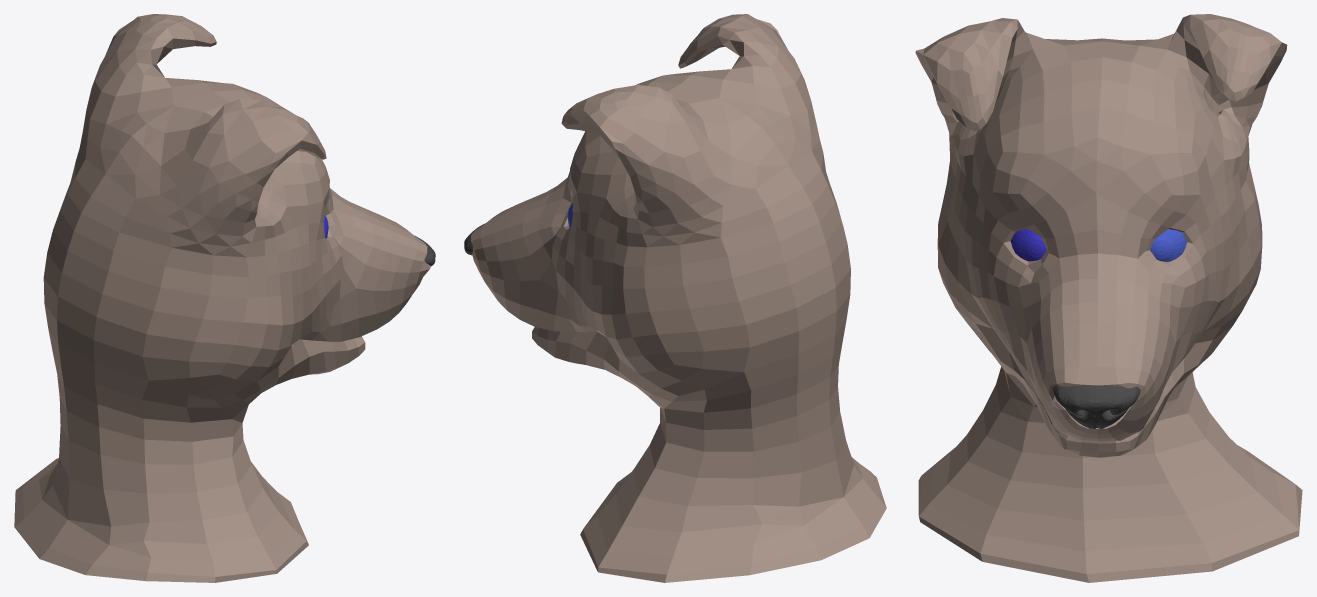
File: husky.dae
The picture shows the model from 3 angles, left to right: view 1: azimuth 30°, elevation 25°; view 2: azimuth 150°, elevation 25°; view 3: azimuth 270°, elevation 25°; orthographic projection. The views are drawn at different scales.
Visible parts, largest first — view 1: head; view 2: head; view 3: head, nose, Sphere, Sphere_001.
Part boxes in pixels (x1,y1,x2,y2): head: (14,14,430,582); head: (471,14,886,582); head: (915,14,1302,582); nose: (1053,385,1140,428); Sphere: (1150,229,1186,261); Sphere_001: (1010,229,1046,261).
Size of the model in its own units: 1.2 by 0.9051 by 1.34.
